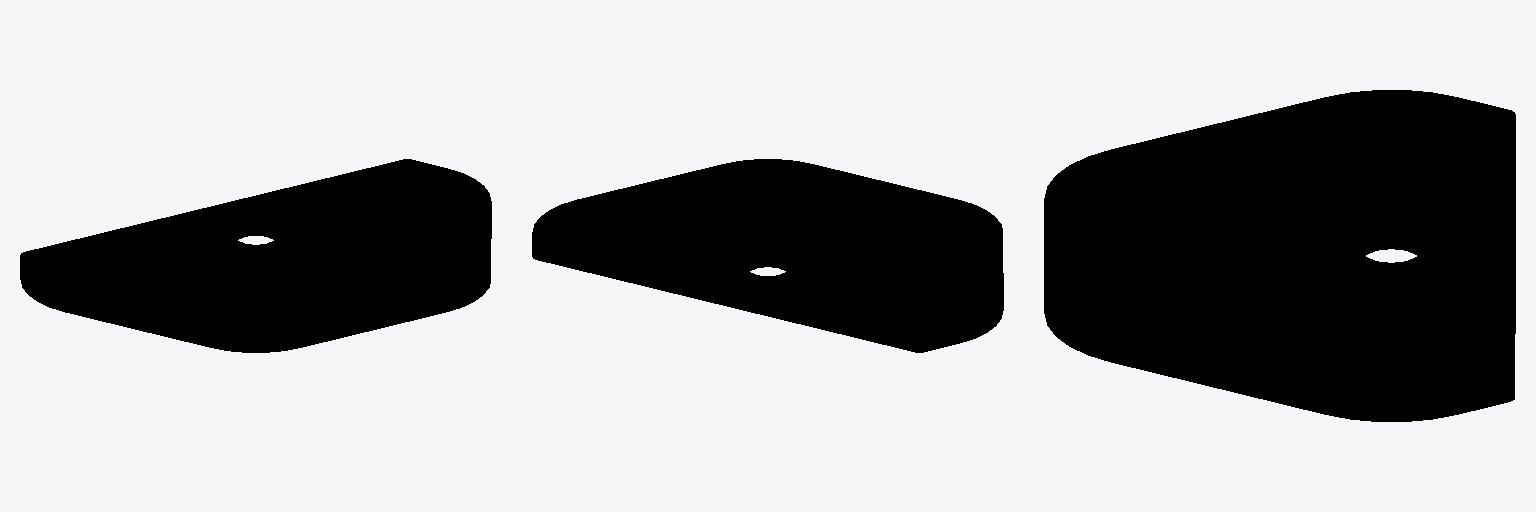
URDF robot description (wood_base):
<?xml version="1.0" encoding="utf-8"?>
<!-- This URDF was automatically created by SolidWorks to URDF Exporter! Originally created by Stephen Brawner ([email redacted]) 
     Commit Version: 1.5.1-0-g916b5db  Build Version: 1.5.7152.31018
     For more information, please see http://wiki.ros.org/sw_urdf_exporter -->
<robot
  name="wood_base">
  <link
    name="wood_base">
    <inertial>
      <origin
        xyz="-8.3427E-05 -0.034707 0.10865"
        rpy="0 0 0" />
      <mass
        value="0.23898" />
      <inertia
        ixx="0.00065603"
        ixy="2.4754E-08"
        ixz="1.34950000001516E-13"
        iyy="0.001435"
        iyz="-8.71755988801888E-15"
        izz="0.0020901" />
    </inertial>
    <visual>
      <origin
        xyz="0 0 0"
        rpy="1.5707963267949 0 0" />
      <geometry>
        <mesh
          filename="package://wood_base/meshes/wood_base.STL" />
      </geometry>
      <material
        name="">
        <color
          rgba="0 0 0 1" />
        <texture
          filename="package://wood_base/textures/" />
      </material>
    </visual>
    <collision>
      <origin
        xyz="0 0 0"
        rpy="1.5707963267949 0 0" />
      <geometry>
        <mesh
          filename="package://wood_base/meshes/wood_base.STL" />
      </geometry>
    </collision>
  </link>
</robot>

--- Facts derived from the render (not from the file) ---
The picture shows the robot from 3 angles, left to right: view 1: azimuth 30°, elevation 25°; view 2: azimuth 150°, elevation 25°; view 3: azimuth 270°, elevation 25°; orthographic projection.
Model wood_base with 1 links and 0 joints (none), rooted at wood_base, posed every joint at zero.
Visible links, largest first — view 1: wood_base; view 2: wood_base; view 3: wood_base.
Boxes of the visible links, x1=… form: wood_base: x1=20, y1=159, x2=491, y2=352; wood_base: x1=532, y1=159, x2=1003, y2=352; wood_base: x1=1044, y1=90, x2=1515, y2=421.
Bounding box of the posed robot: 0.3079 × 0.191 × 0.005 m (x, y, z).
1 mesh visuals loaded from 1 distinct referenced files (1 binary STL).
